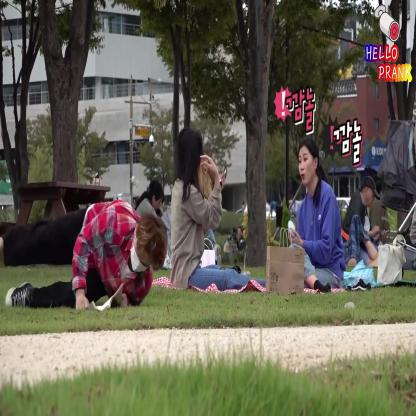Fall_Down: (2, 201, 166, 311)
